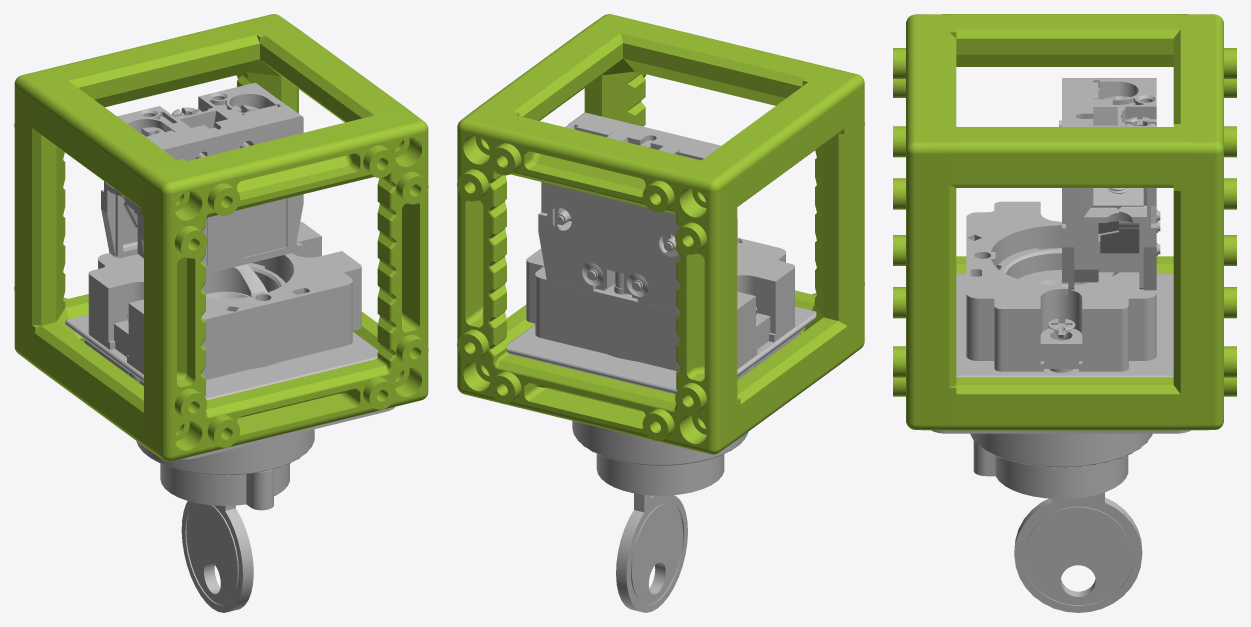
File: ASS_-_2060_-_CUBLASKEY_-_V04_Vereinfachen_1.ipt.glb
3 renders of one model, left to right at view 1: azimuth 30°, elevation 25°; view 2: azimuth 150°, elevation 25°; view 3: azimuth 270°, elevation 25°, orthographic. The views are drawn at different scales.
Parts seen in each view (by area): view 1: ASS - 2060 - CUBLASKEY - V04_Vereinfachen_1; view 2: ASS - 2060 - CUBLASKEY - V04_Vereinfachen_1; view 3: ASS - 2060 - CUBLASKEY - V04_Vereinfachen_1.
Boxes of the visible parts, x1,y1,x2,y2 form: ASS - 2060 - CUBLASKEY - V04_Vereinfachen_1: (14,14,428,612); ASS - 2060 - CUBLASKEY - V04_Vereinfachen_1: (457,14,864,612); ASS - 2060 - CUBLASKEY - V04_Vereinfachen_1: (893,14,1236,612).
Bounding box in the file's own units: 49.8 × 91.67 × 53.8.
